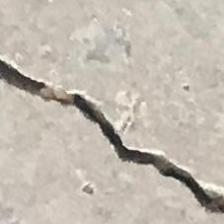Crack: (0, 43, 224, 209)
